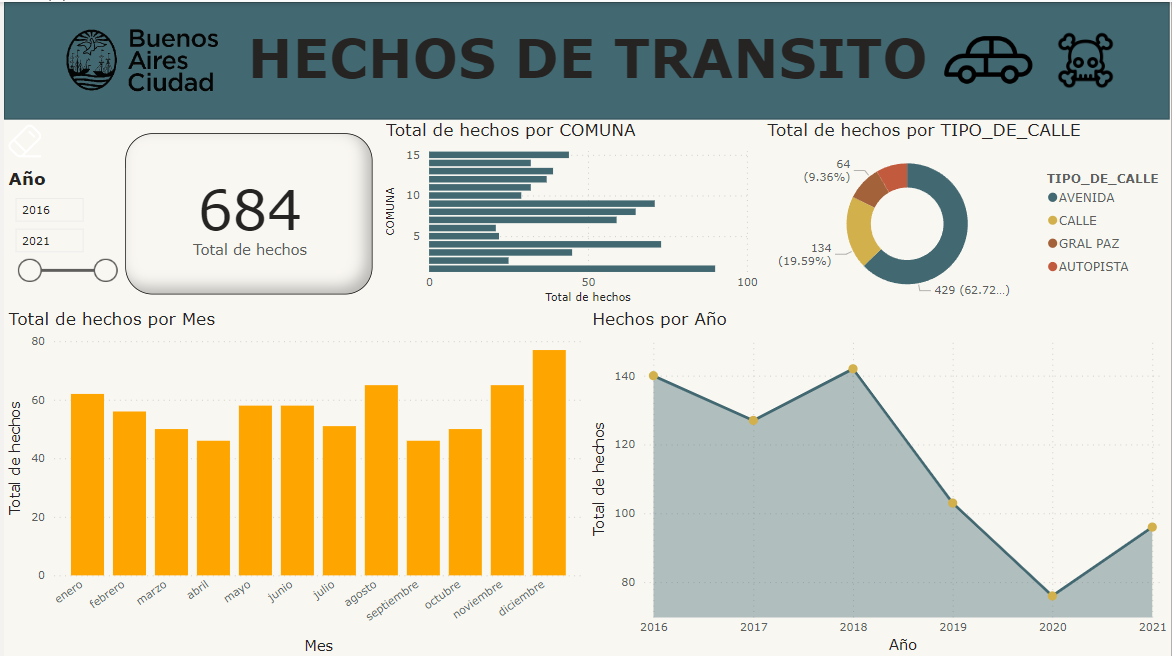

This screenshot's page, from the dashboard's own definition file:
{"tool":"powerbi","page":{"name":"Página 1","canvas":[1280,720],"ordinal":0},"visuals":[{"type":"image","box":[1092.8,0,187.1,128.6],"z":0,"group":"g2"},{"type":"card","fields":{"Values":["df_hechos.Total de hechos"]},"box":[132.9,144.3,271.4,177.1],"z":0},{"type":"image","box":[1001.4,10,157.1,108.6],"z":1000,"group":"g2"},{"type":"slicer","title":"Año","fields":{"Values":["df_hechos.FECHA.Variación.Jerarquía de fechas.Año"]},"box":[0,182.9,132.9,152.9],"z":1000},{"type":"donutChart","fields":{"Category":["df_hechos.TIPO_DE_CALLE"],"Y":["df_hechos.Total de hechos"]},"box":[831.9,129.2,448.6,206.9],"z":2000},{"type":"image","box":[0,128.6,45.7,47.1],"z":3000},{"type":"textbox","box":[256.9,19.4,768.1,90.3],"z":4000,"group":"g1"},{"type":"clusteredBarChart","fields":{"Category":["df_hechos.COMUNA"],"Y":["df_hechos.Total de hechos"]},"box":[413.9,129.2,418.1,206.9],"z":4000},{"type":"columnChart","fields":{"Category":["df_hechos.FECHA.Variación.Jerarquía de fechas.Mes"],"Y":["df_hechos.Total de hechos"]},"box":[0,335.7,640,384.3],"z":5000},{"type":"shape","box":[0,0,1278.6,128.6],"z":6000},{"type":"image","box":[0,0,300,129.2],"z":7000,"group":"g1"},{"type":"areaChart","title":"Hechos por Año","fields":{"Category":["df_hechos.FECHA.Variación.Jerarquía de fechas.Año"],"Y":["df_hechos.Total de hechos"]},"box":[640.3,336.1,640.3,383.3],"z":7000},{"type":"group","id":"g1","title":"Grupo 1","box":[0,0,1025,129.2],"z":8000},{"type":"group","id":"g2","title":"Grupo 2","box":[1001.4,0,278.6,128.6],"z":9000}]}

Visuals, with their boxes in screenshot pixels (x1, y1, x2, y2), scaled from the page's 1280x720 canvas onto the 1172x656 screenshot:
image: bbox=[1001, 0, 1171, 117]
card - df_hechos.Total de hechos: bbox=[122, 131, 370, 293]
image: bbox=[917, 9, 1061, 108]
"Año" slicer: bbox=[0, 167, 122, 306]
donutChart - df_hechos.TIPO_DE_CALLE x df_hechos.Total de hechos: bbox=[762, 118, 1171, 306]
image: bbox=[0, 117, 42, 160]
textbox: bbox=[235, 18, 939, 100]
clusteredBarChart - df_hechos.COMUNA x df_hechos.Total de hechos: bbox=[379, 118, 762, 306]
columnChart - df_hechos.FECHA.Variación.Jerarquía de fechas.Mes x df_hechos.Total de hechos: bbox=[0, 306, 586, 655]
shape: bbox=[0, 0, 1171, 117]
image: bbox=[0, 0, 275, 118]
"Hechos por Año" areaChart: bbox=[586, 306, 1171, 655]
"Grupo 1" group: bbox=[0, 0, 939, 118]
"Grupo 2" group: bbox=[917, 0, 1171, 117]
